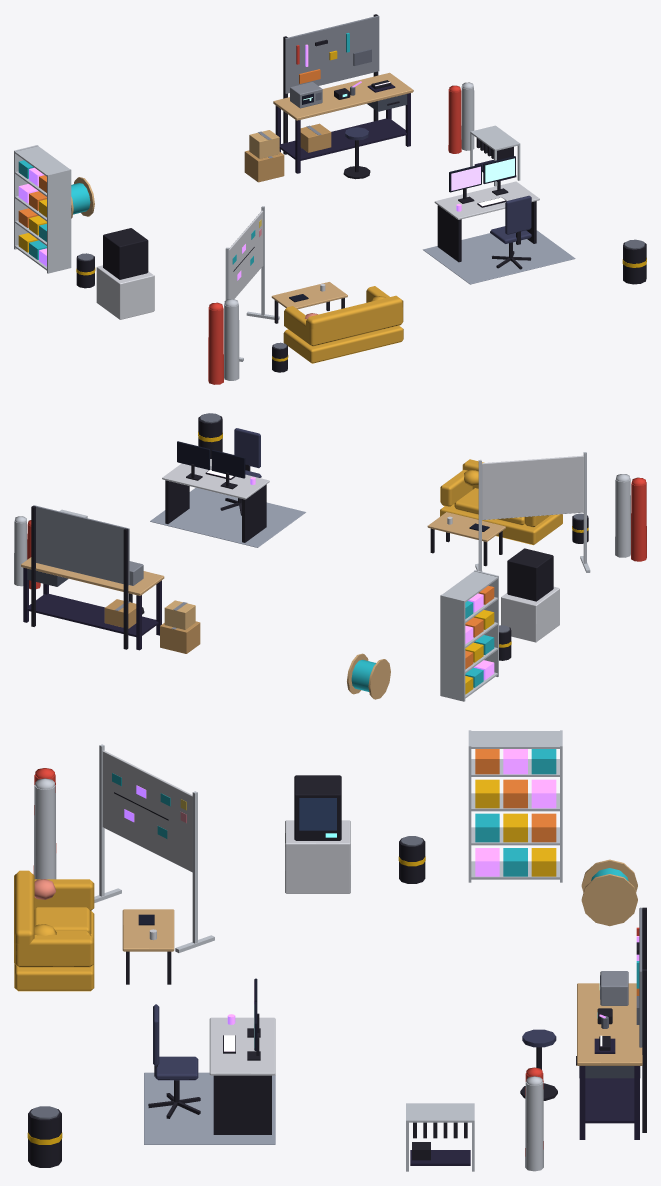
Rendered from einrichtung_selins_labor.glb.
3 views of the same model, one above another, from view 1: azimuth 30°, elevation 25°; view 2: azimuth 150°, elevation 25°; view 3: azimuth 270°, elevation 25° (orthographic). The views are drawn at different scales.
Parts seen in each view (by area): view 1: einrichtung_selins_labor; view 2: einrichtung_selins_labor; view 3: einrichtung_selins_labor.
Boxes of the visible parts, x1,y1,x2,y2 form: einrichtung_selins_labor: [14, 14, 646, 384]; einrichtung_selins_labor: [14, 413, 646, 701]; einrichtung_selins_labor: [14, 730, 646, 1171].
Size of the model in its own units: 7.66 by 1.9 by 6.73.
